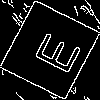E: (24, 25, 82, 77)
